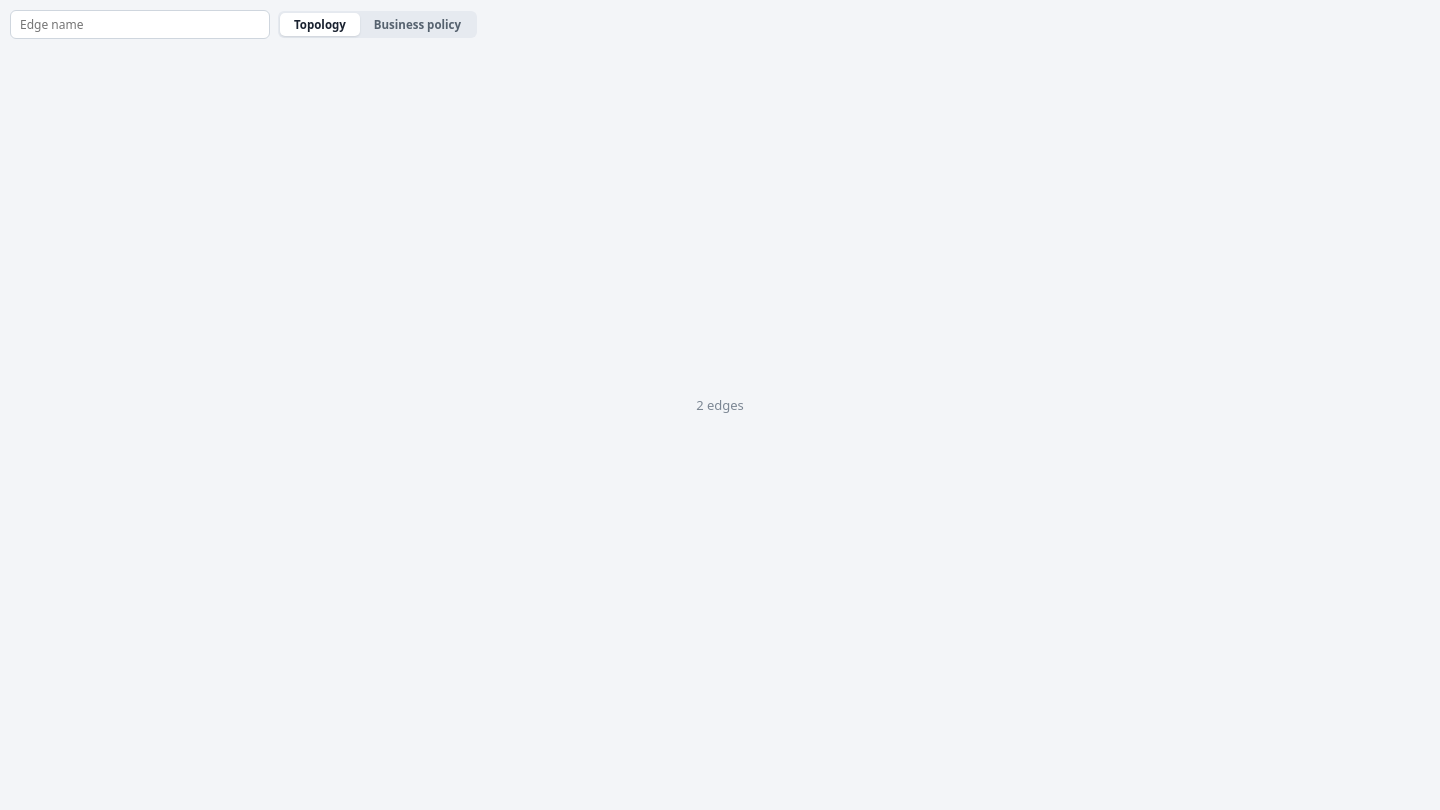
Test: SdwanPage › loads the topology of the edge that the picker names
The width and height of the screenshot is (1440, 810).
Expected: the text "2 edges" is shown, left=696, top=396, right=744, bottom=414
Type "XX-CITY-BR-RTS-01" into the field named "SD-WAN edge" at (140, 24), box left=10, top=10, right=270, bottom=39
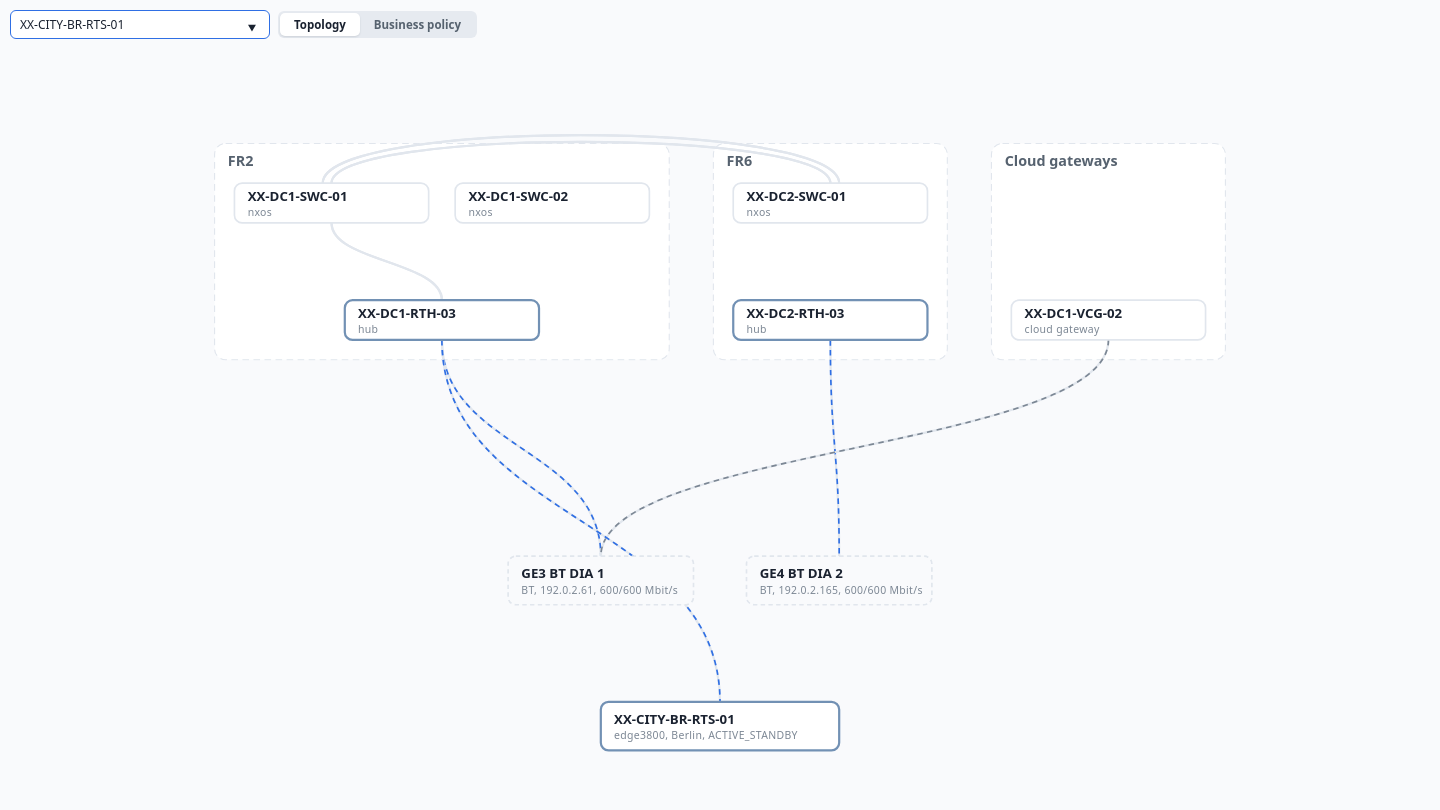
Expected: the text "GE3 BT DIA 1" is shown, left=521, top=564, right=604, bottom=582
Result: the icon named "SD-WAN topology" is shown
